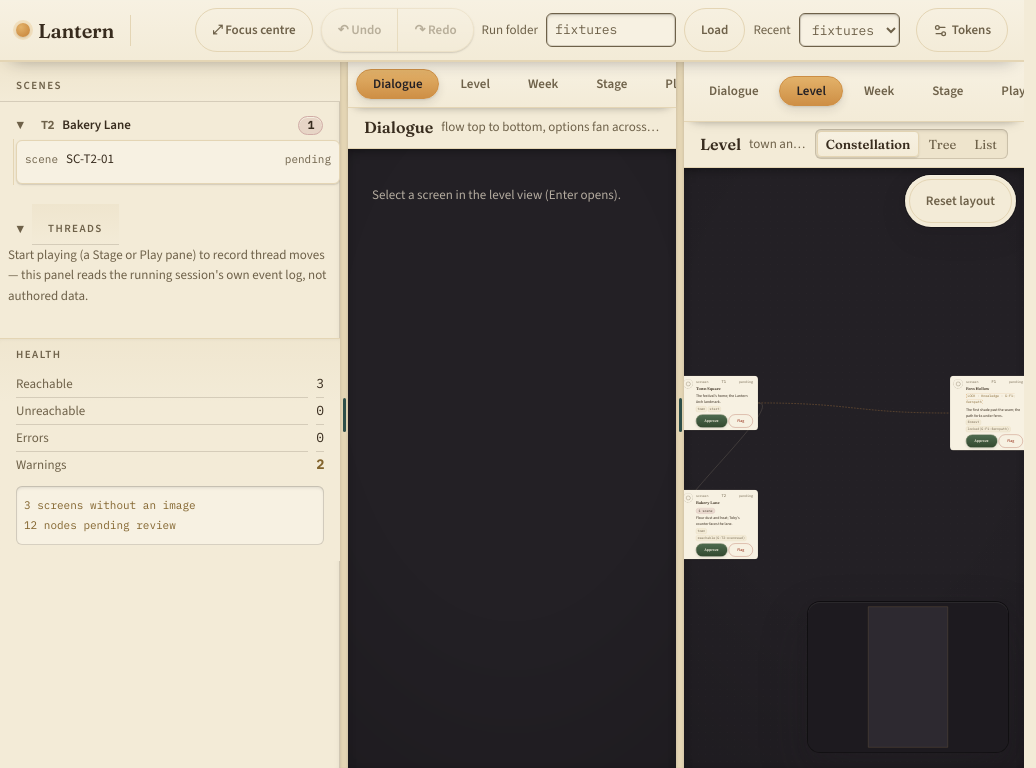
Test: App smoke › list mode shows every screen, including ones with no scenes
The width and height of the screenshot is (1036, 768).
Expected: the element named "right pane views" is shown, x1=684 y1=61 x2=1024 y2=121
What coordinates should you click on to do the following:
click the radio button labelled "List"
I would click on:
 (986, 144)
Its box is x1=965 y1=131 x2=1006 y2=157.
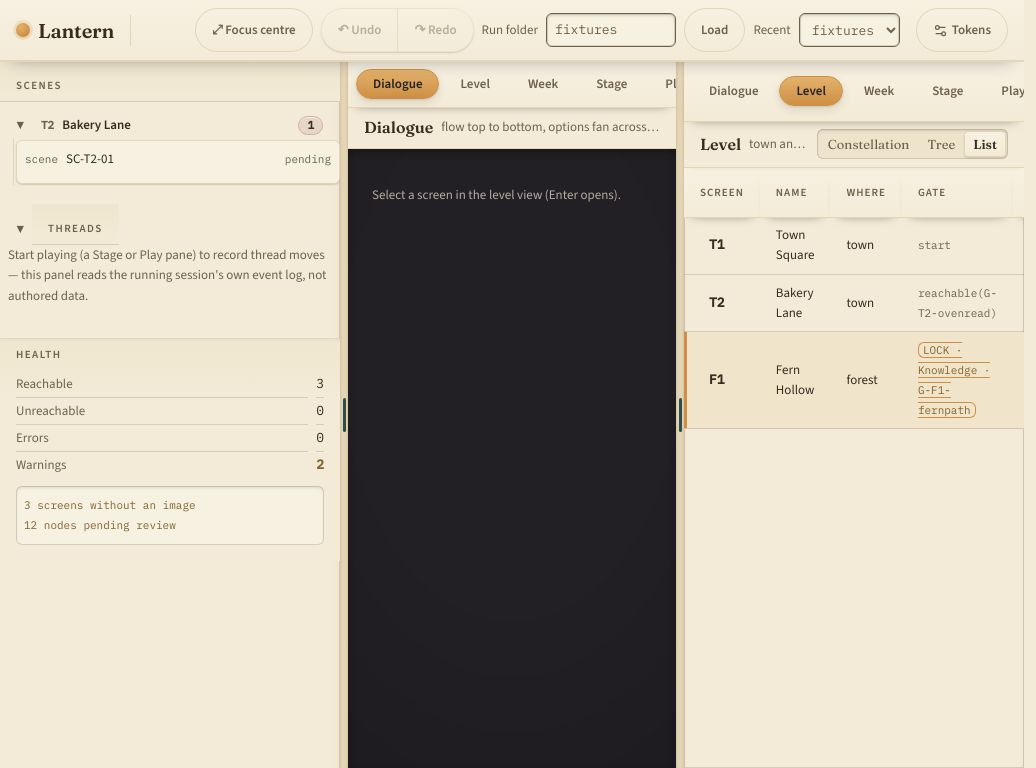
Expected: the text "LOCK · Knowledge · G-F1-fernpath" is shown, x1=918 y1=342 x2=990 y2=418
What coordinates should you click on to do the following:
click the button named "open Bakery Lane"
I would click on:
 (717, 303)
Its box is x1=700 y1=290 x2=734 y2=316.
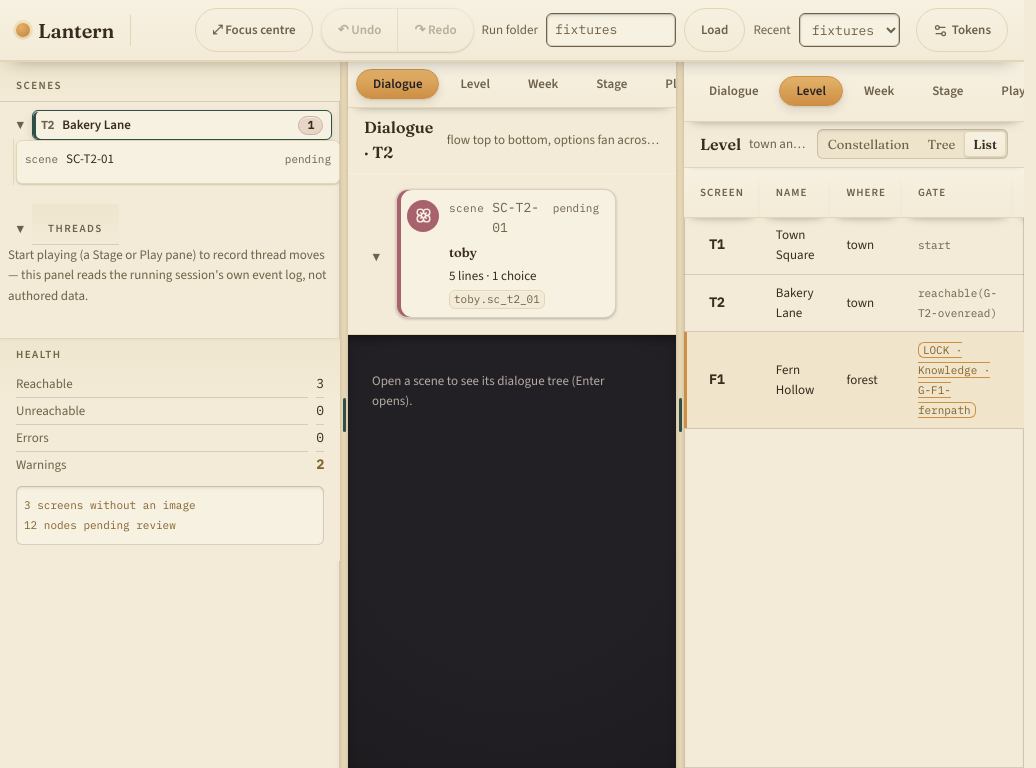
Expected: the element showing "scene SC-T2-01 pending toby 5 lines · 1 choice toby.sc_t2_01" is shown, x1=396 y1=189 x2=616 y2=318
